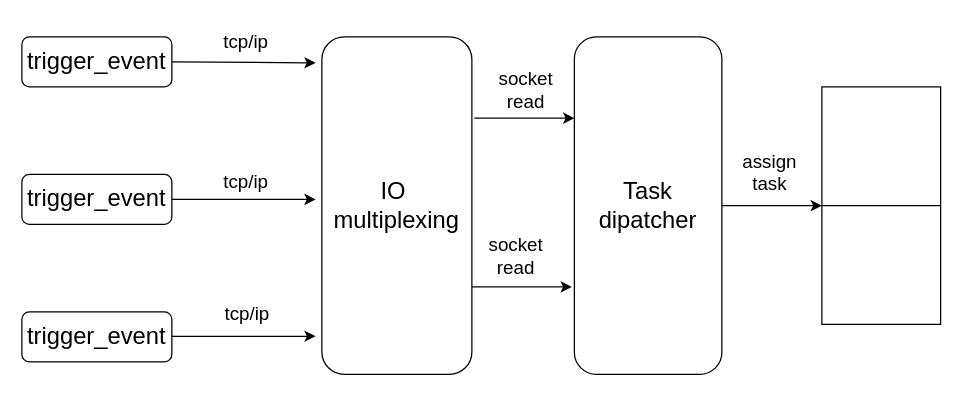
Some shapes in this 963 by 396 pixel diagram are drawn without their labels. The shapes that lost their labels are listed below. From the top down, each one's centre as x and y in pixels, then its label:
At (881,146): "process thread_pool".
At (881,264): "resource memory_pool".
